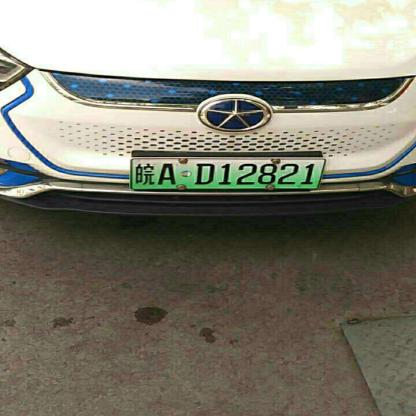lp: (132, 159, 324, 189)
